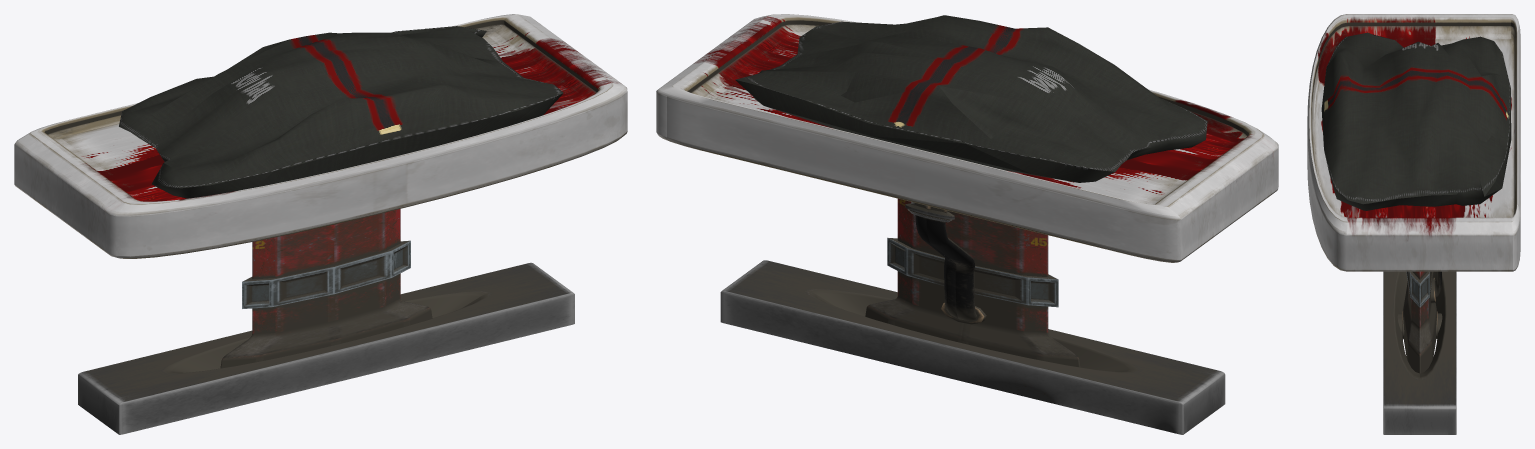
The model's file is bodybag.glb.
3 views of the same model, side by side, from view 1: azimuth 30°, elevation 25°; view 2: azimuth 150°, elevation 25°; view 3: azimuth 270°, elevation 25° (orthographic). The views are drawn at different scales.
Visible parts, largest first — view 1: Surgical_table_Surgical table_0; view 2: Surgical_table_Surgical table_0; view 3: Surgical_table_Surgical table_0.
Part boxes in pixels (x1,y1,x2,y2): Surgical_table_Surgical table_0: (14,14,627,434); Surgical_table_Surgical table_0: (656,14,1278,434); Surgical_table_Surgical table_0: (1307,14,1520,434).
Size of the model in its own units: 2.2 by 1.25 by 0.9.
Materials: 2 (2 with a texture image).
